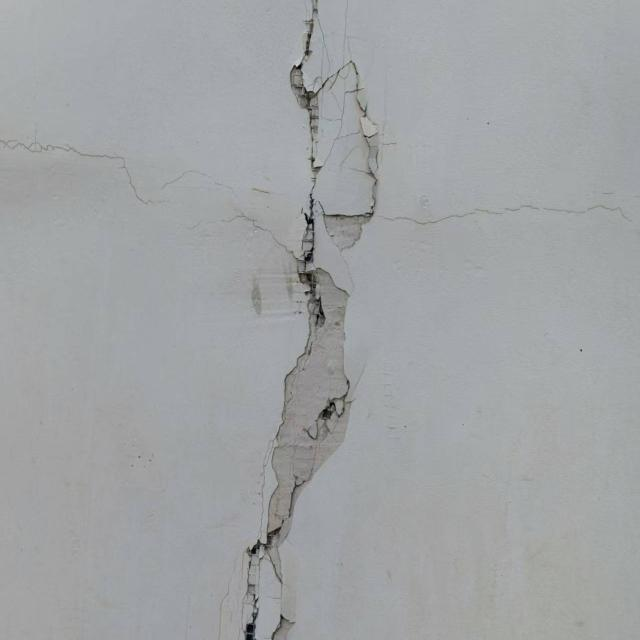crack: (7, 129, 294, 260), (379, 195, 636, 237)
spalling: (233, 7, 393, 638)
